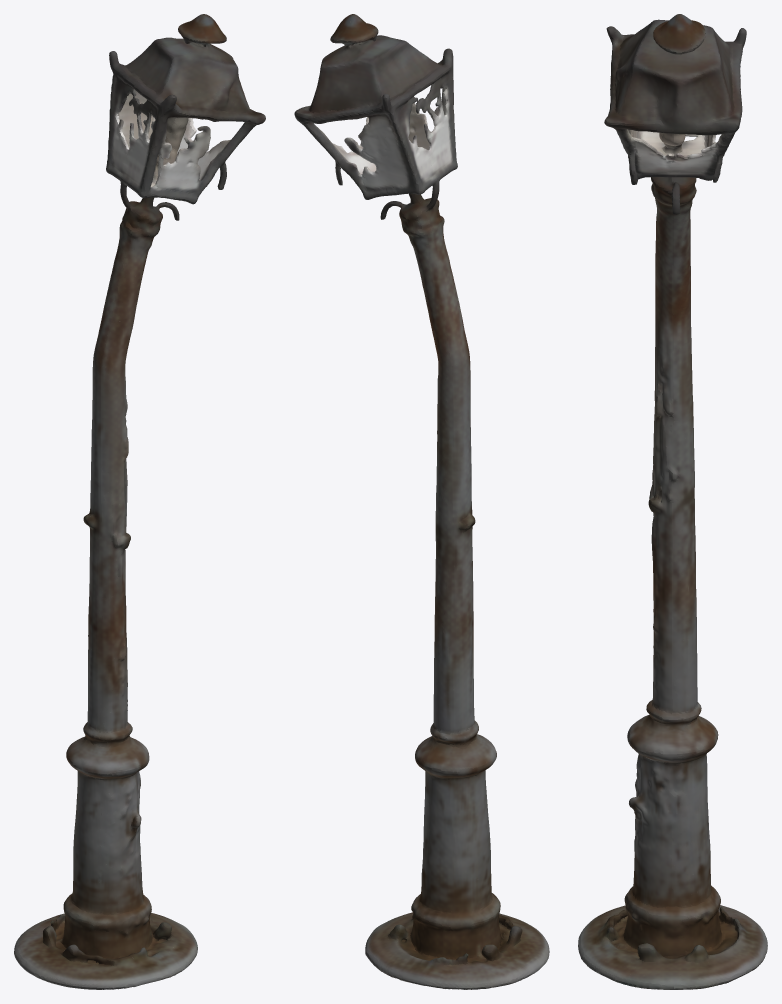
File: lamp_ruin.glb
3 views of the same model, side by side, from view 1: azimuth 30°, elevation 25°; view 2: azimuth 150°, elevation 25°; view 3: azimuth 270°, elevation 25° (orthographic). The views are drawn at different scales.
Parts seen in each view (by area): view 1: world; view 2: world; view 3: world.
Part boxes in pixels (box(x1,y1,x2,y2)): world: box(14, 14, 265, 989); world: box(294, 14, 549, 989); world: box(578, 14, 767, 989).
Bounding box in the file's own units: 0.6857 × 2.8 × 0.4873.
Materials: 1 (1 with a texture image).
